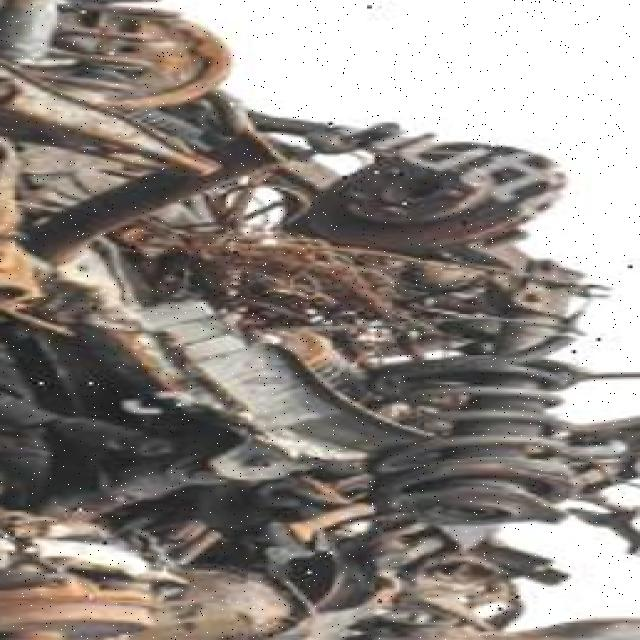shock absorber: (361, 258, 584, 526)
